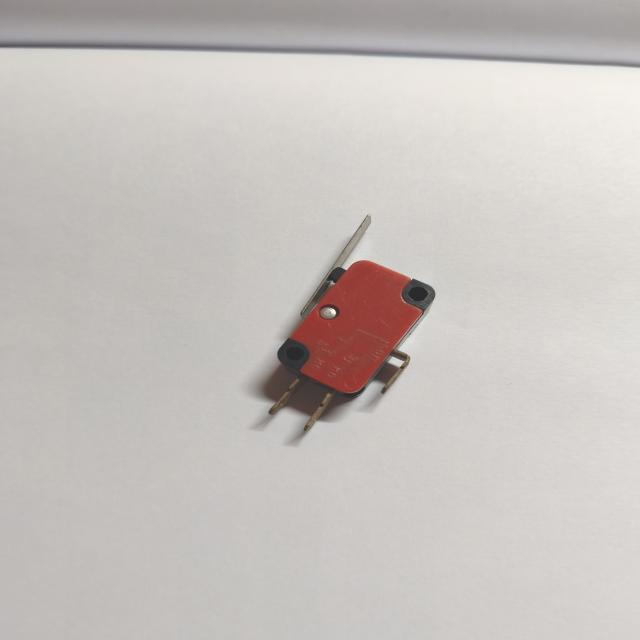switch: (238, 200, 452, 446)
